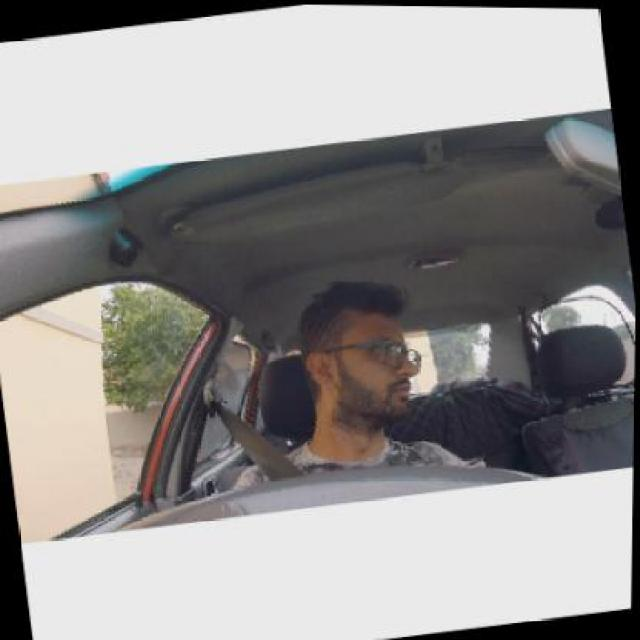LeftRight: (294, 277, 421, 427)
